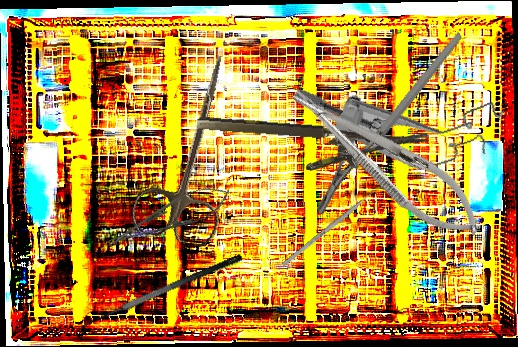Iris Scissors: (128, 44, 258, 250)
Needle Holder: (276, 30, 504, 218), (278, 70, 496, 253), (193, 113, 430, 181), (101, 176, 237, 258)
Pusher: (281, 183, 383, 268)
Spatula Surgical: (72, 251, 249, 343)
Speculum: (291, 35, 517, 203)
